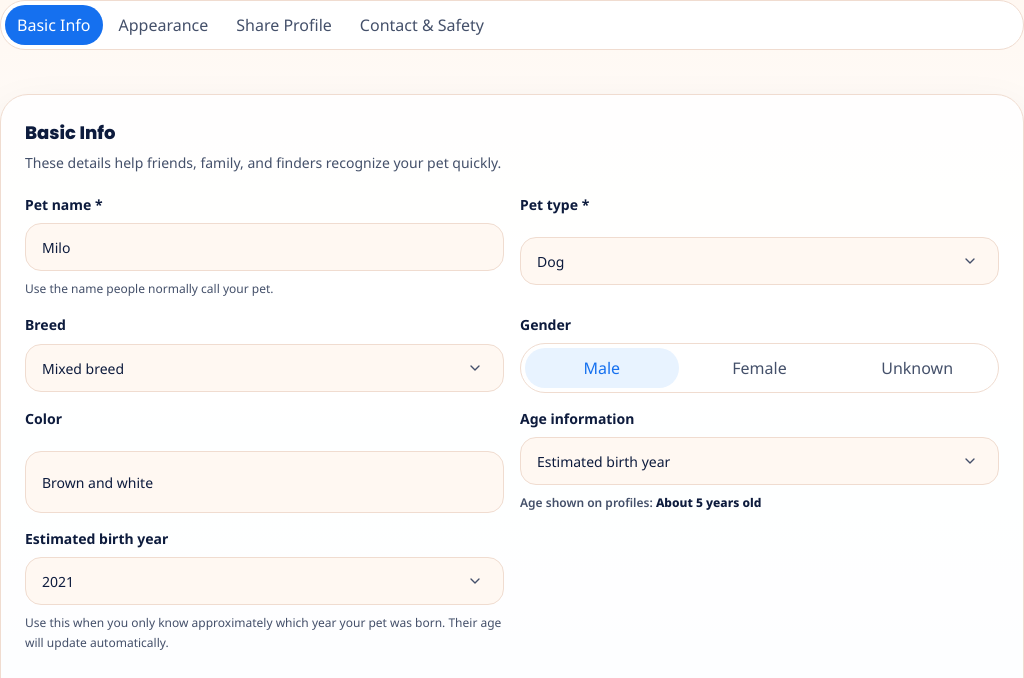
Scenario: PetProfileForm lifecycle workflow › places shared-profile and contact visibility controls under their owners
Click the tab "Share Profile".
click(284, 25)  # box [224,5,344,45]
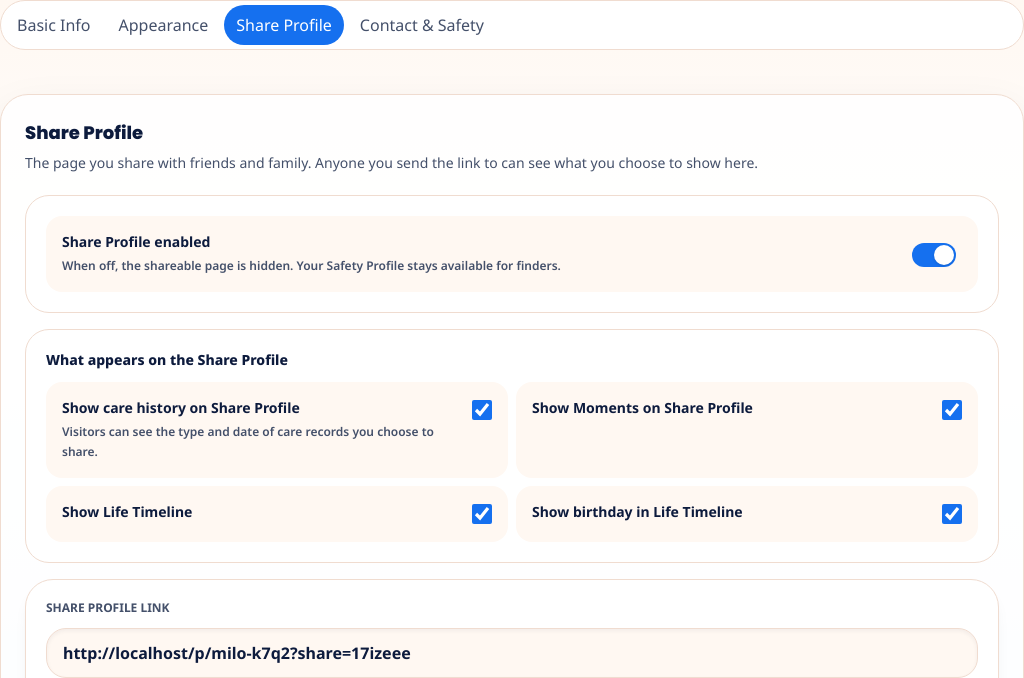
Expected: the checkbox labelled "Show birthday in Life Timeline" is shown, [942,504,962,524]
Expected: the checkbox labelled "Show care history on Share Profile" is shown, [472,400,492,420]
Expected: the text "Visitors can see the type and date of care records you choose to share." is shown, [62,422,456,462]
Click the tab "Contact & Safety".
click(422, 25)  # box [348,5,496,45]
(page scrolled)
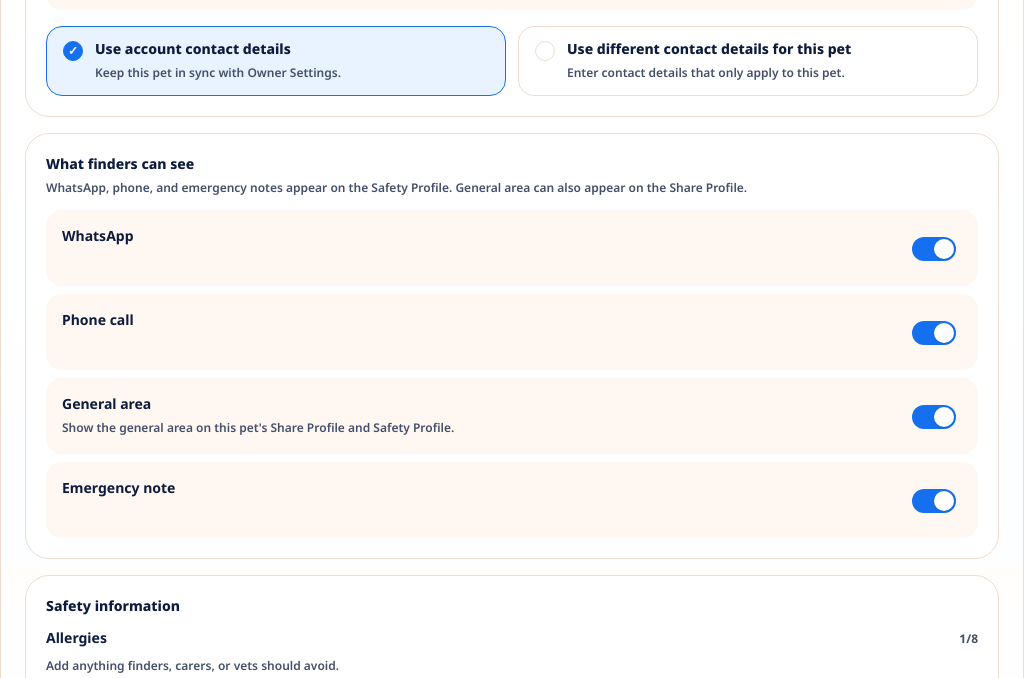
Expected: the text "Allergies" is shown, [46,628,107,648]
Expected: the text "general area on this pet's Share Profile and Safety Profile" is shown, [62,419,454,436]
